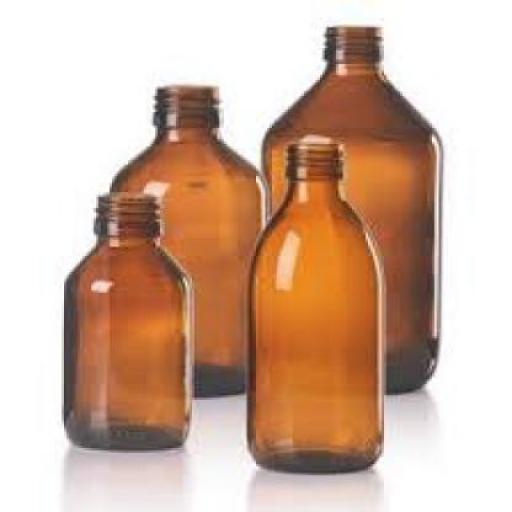glass: (266, 25, 445, 393), (112, 83, 274, 395), (248, 135, 386, 473), (64, 192, 192, 453)
